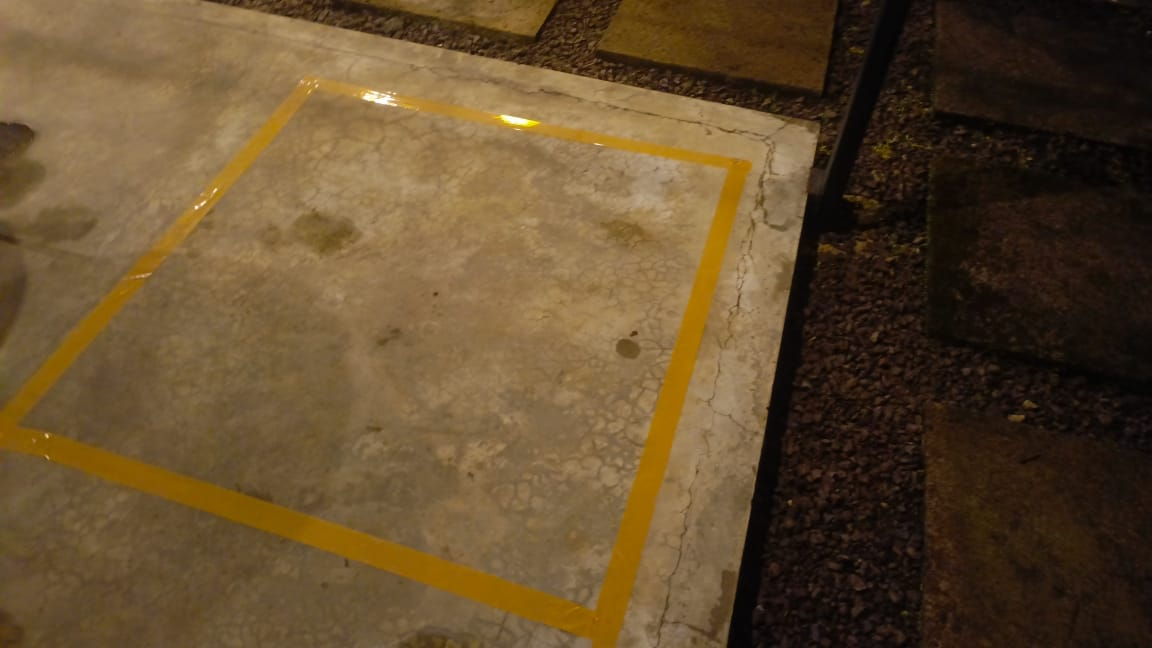floor marking: (0, 79, 751, 647)
